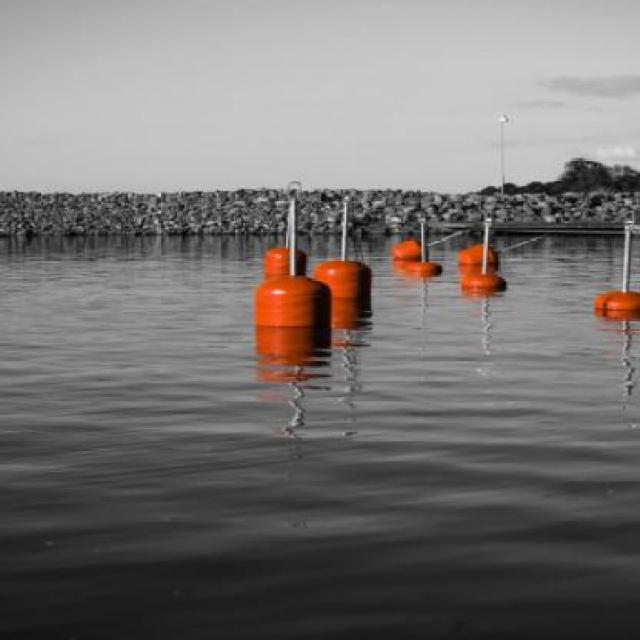a: (259, 246, 380, 327), (253, 271, 340, 334), (447, 241, 510, 304), (387, 236, 438, 291), (591, 290, 640, 321)
